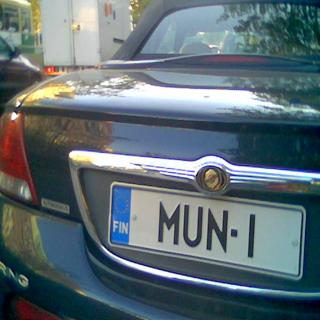license: (109, 180, 305, 281)
